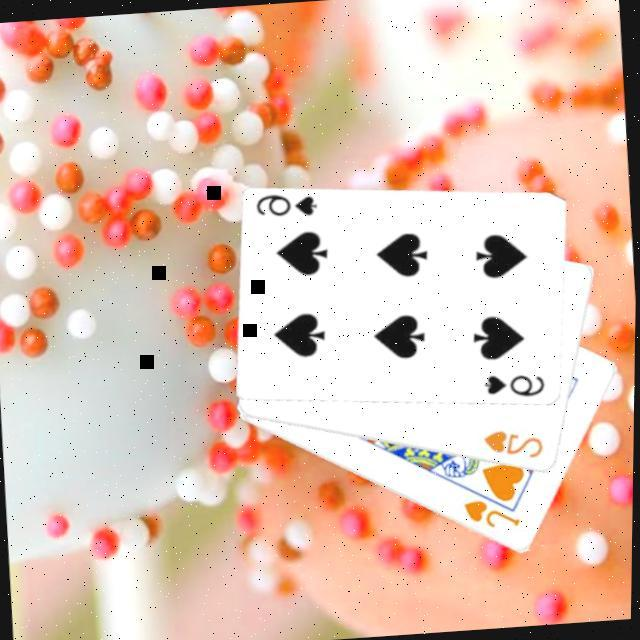2H: (481, 422, 549, 463)
6S: (482, 366, 550, 401), (253, 186, 321, 221)
JH: (462, 492, 526, 532)
